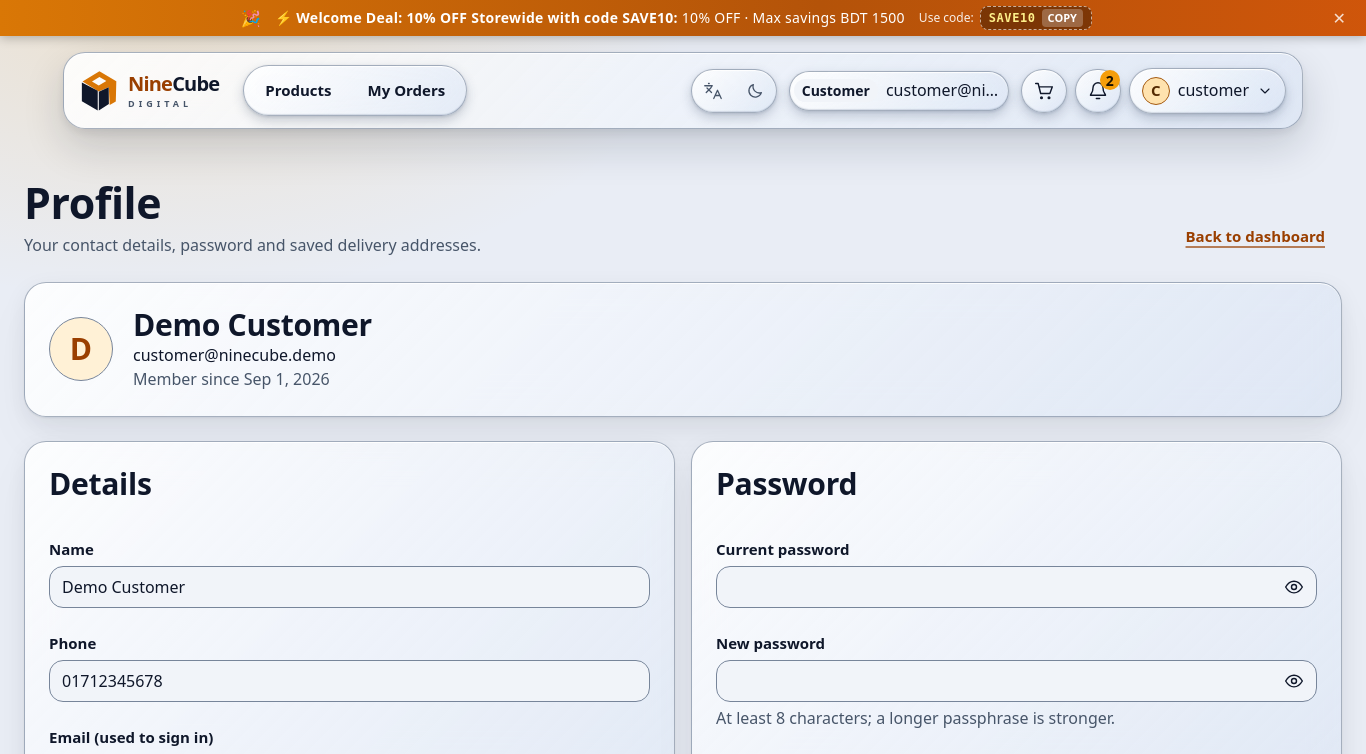
Scenario: Modern customer controls › toggles password visibility without changing its value and supplies a strength hint
Type "a-unique-long-passphrase" into the password field labelled "New password" at (1016, 681), box left=716, top=660, right=1317, bottom=702
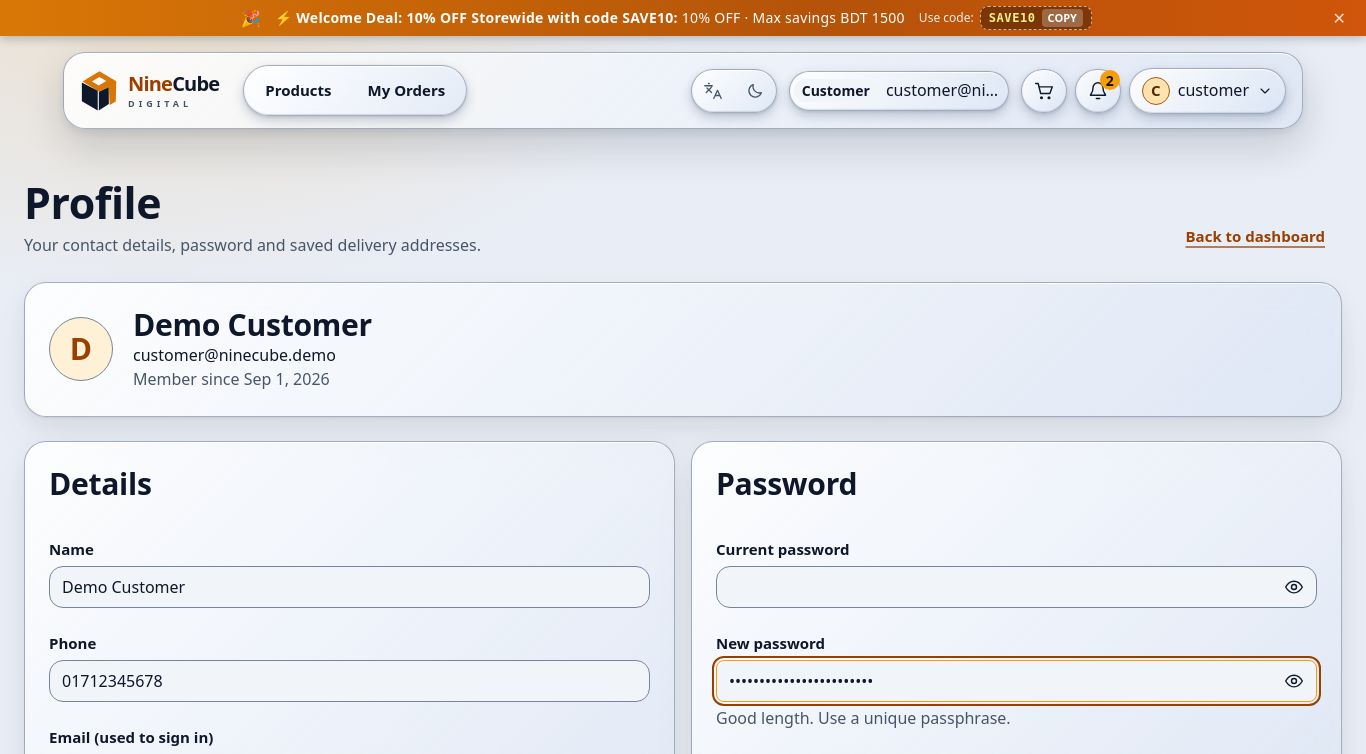
Click the button named "Show new password" at (1294, 681), box left=1275, top=664, right=1313, bottom=698
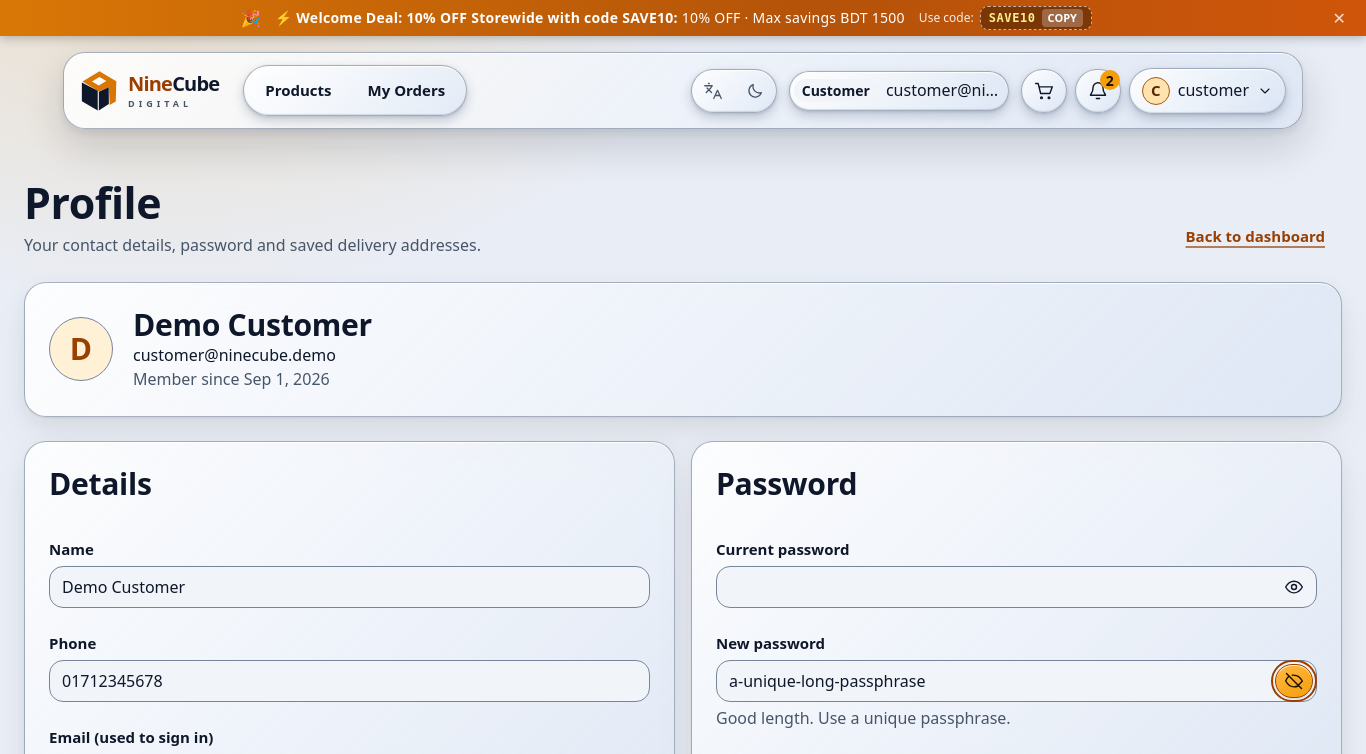
Expected: the field labelled "New password" shows its text, left=716, top=660, right=1317, bottom=702
Click the button named "Hide new password" at (1294, 681), box left=1275, top=664, right=1313, bottom=698
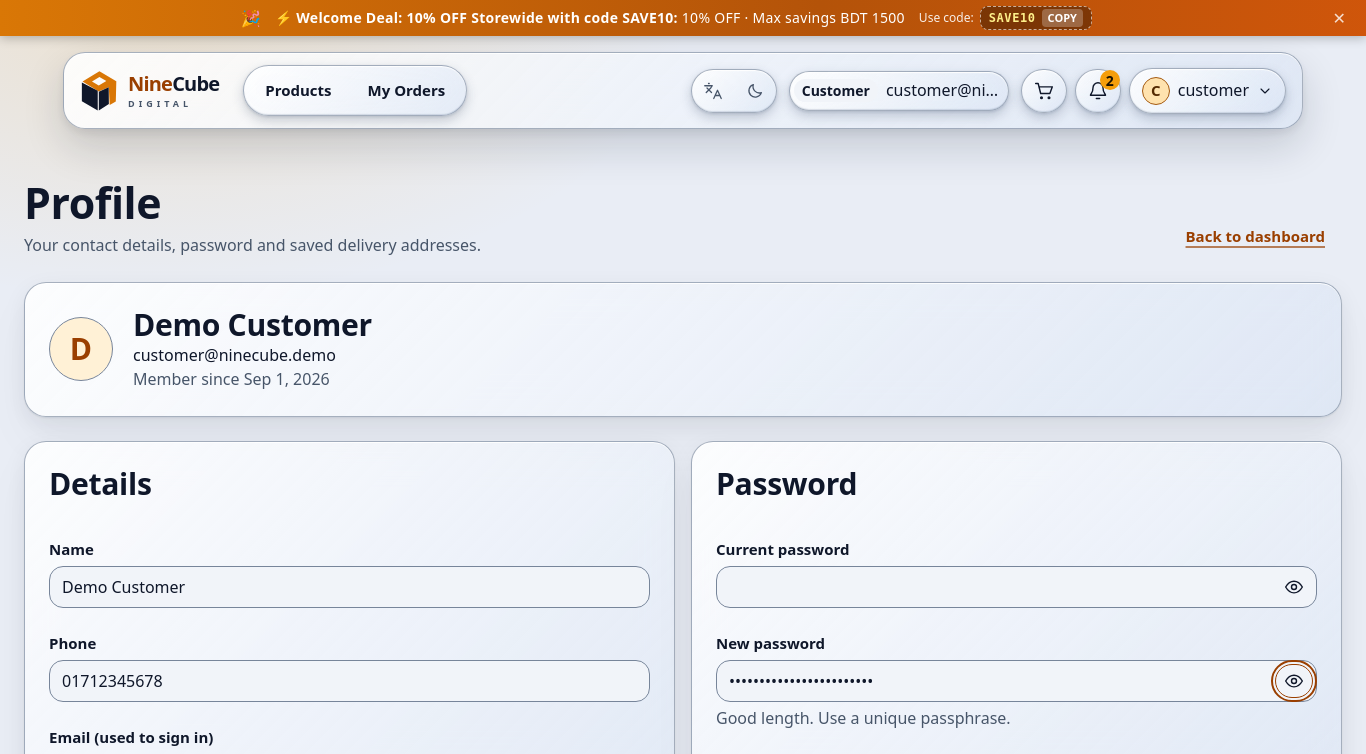
Expected: the text "Good length. Use a unique passphrase." is shown, left=716, top=708, right=1011, bottom=730
Expected: the password field labelled "New password" hides its text, left=716, top=660, right=1317, bottom=702
